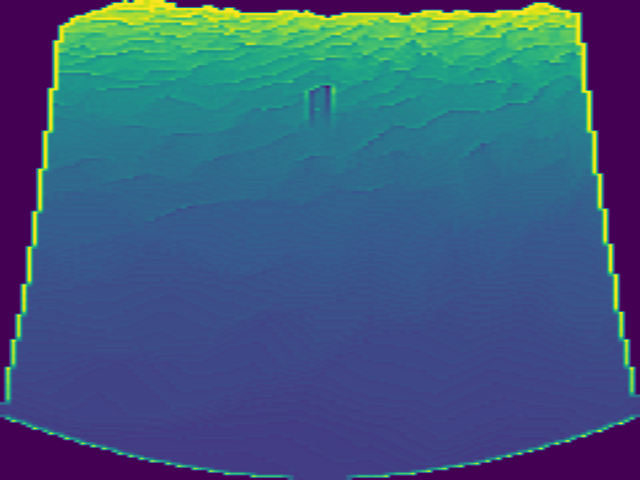car_0198: (307, 85, 334, 122)
